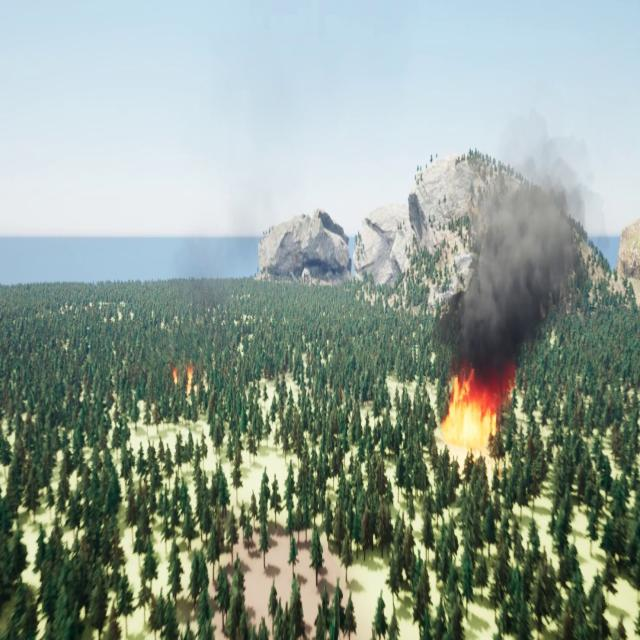fire: (438, 372, 517, 442), (170, 362, 196, 393)
smoke: (434, 117, 603, 368)
